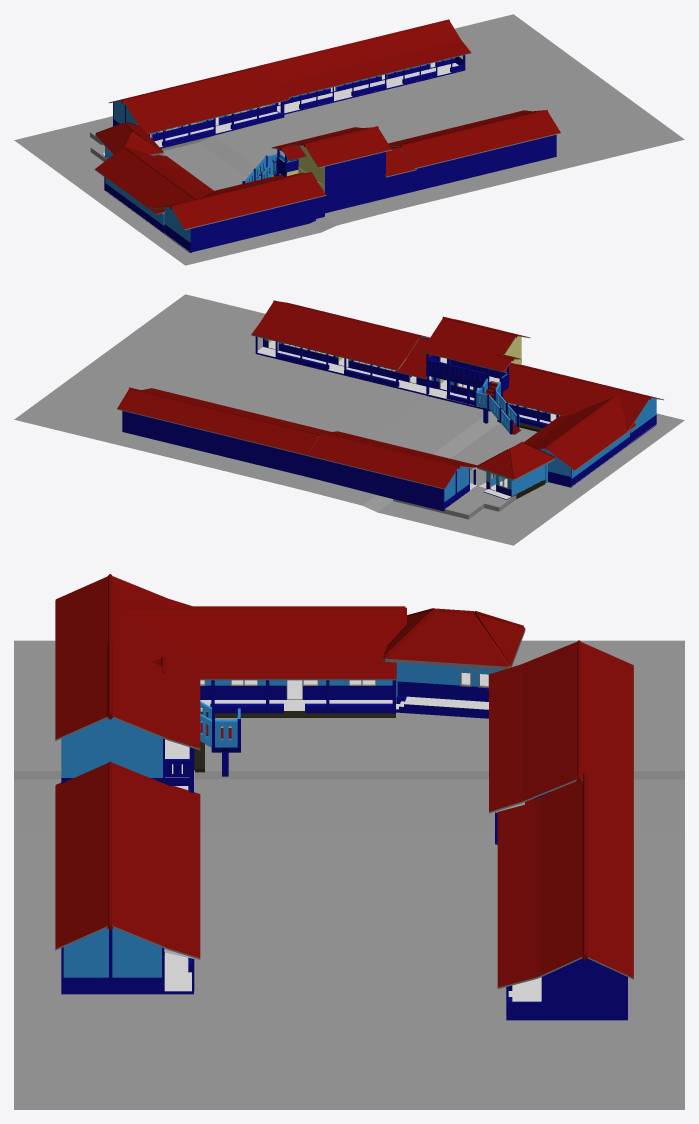
File: GedungABC.glb
3 views of the same model, one above another, from view 1: azimuth 30°, elevation 25°; view 2: azimuth 150°, elevation 25°; view 3: azimuth 270°, elevation 25° (orthographic). The views are drawn at different scales.
Visible parts, largest first — view 1: Plane043, Cube062, Cube012, Plane038_2, Plane041_2, Plane043_2, Cube118_2, Cube153_2, Cube087_2, Cube081, Plane045, Cube001_1 (+9 smaller); view 2: Plane043, Plane038_2, Cube062, Cube012, Plane041_2, Plane043_2, Cube002_2, Cube081, Cube016_2, Plane045, Cube117_1, Cube119_2 (+7 smaller); view 3: Plane043, Cube062, Plane038_2, Cube012, Plane043_2, Cube081, Plane041_2, Plane045, Cube003_1, Cube088_3, Cube139_3, Cube080_1 (+11 smaller).
Part boxes in pixels (x1=…): Plane043: x1=14, y1=14, x2=684, y2=265; Cube062: x1=248, y1=19, x2=470, y2=97; Cube012: x1=110, y1=65, x2=289, y2=133; Plane038_2: x1=388, y1=110, x2=560, y2=168; Plane041_2: x1=148, y1=172, x2=325, y2=229; Plane043_2: x1=95, y1=146, x2=213, y2=213; Cube118_2: x1=386, y1=134, x2=556, y2=196; Cube153_2: x1=192, y1=196, x2=324, y2=252; Cube087_2: x1=324, y1=152, x2=385, y2=211; Cube081: x1=272, y1=126, x2=391, y2=167; Plane045: x1=95, y1=122, x2=163, y2=154; Cube001_1: x1=277, y1=62, x2=458, y2=113; Plane043: x1=14, y1=294, x2=684, y2=545; Plane038_2: x1=251, y1=300, x2=429, y2=369; Cube062: x1=117, y1=387, x2=330, y2=454; Cube012: x1=308, y1=431, x2=477, y2=488; Plane041_2: x1=502, y1=363, x2=662, y2=430; Plane043_2: x1=523, y1=394, x2=635, y2=470; Cube002_2: x1=122, y1=411, x2=306, y2=475; Cube081: x1=420, y1=316, x2=528, y2=371; Cube016_2: x1=306, y1=456, x2=444, y2=509; Plane045: x1=477, y1=442, x2=554, y2=479; Cube117_1: x1=257, y1=340, x2=432, y2=393; Cube119_2: x1=264, y1=340, x2=433, y2=388; Plane043: x1=14, y1=640, x2=684, y2=1109; Cube062: x1=497, y1=772, x2=633, y2=987; Plane038_2: x1=55, y1=785, x2=200, y2=957; Cube012: x1=489, y1=640, x2=633, y2=811; Plane043_2: x1=119, y1=606, x2=406, y2=678; Cube081: x1=55, y1=643, x2=200, y2=748; Plane041_2: x1=55, y1=574, x2=200, y2=669; Plane045: x1=383, y1=608, x2=524, y2=666; Cube003_1: x1=508, y1=958, x2=625, y2=1017; Cube088_3: x1=61, y1=718, x2=162, y2=777; Cube139_3: x1=63, y1=928, x2=161, y2=977; Cube080_1: x1=55, y1=761, x2=200, y2=818.
Size of the model in its own units: 82.28 by 11.49 by 48.89.
